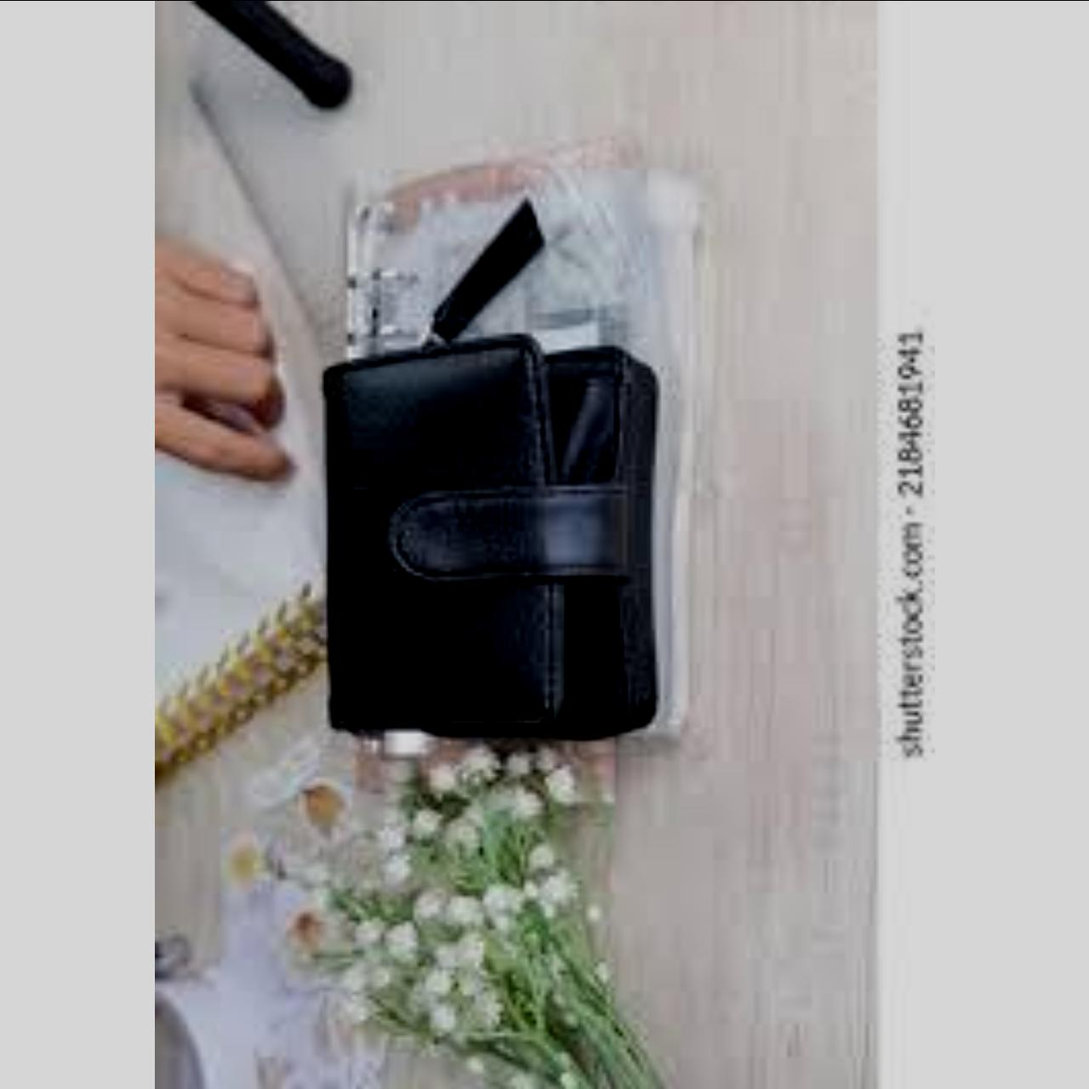wallet: (307, 329, 672, 740)
